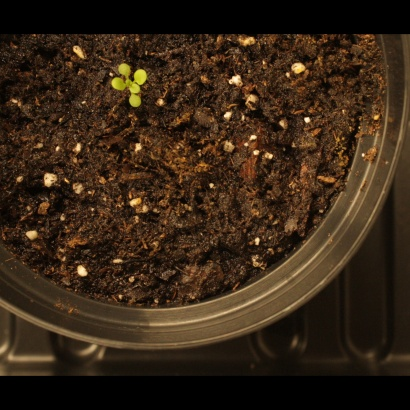leaf: (136, 62, 159, 85), (124, 96, 147, 119), (126, 81, 149, 104), (102, 76, 125, 99), (111, 59, 134, 82)
